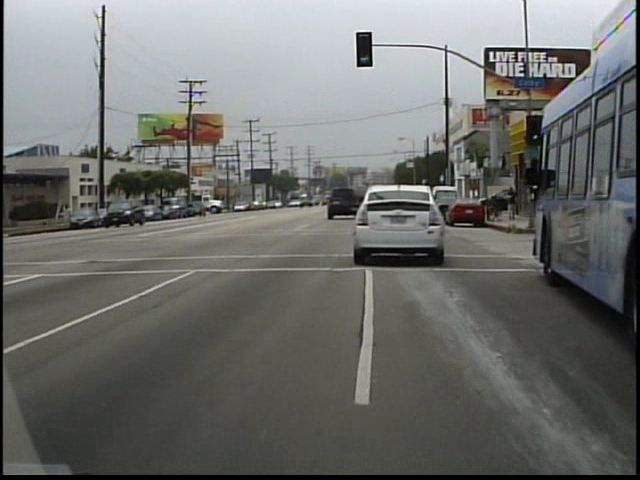person: (501, 181, 522, 228), (72, 204, 73, 228)
